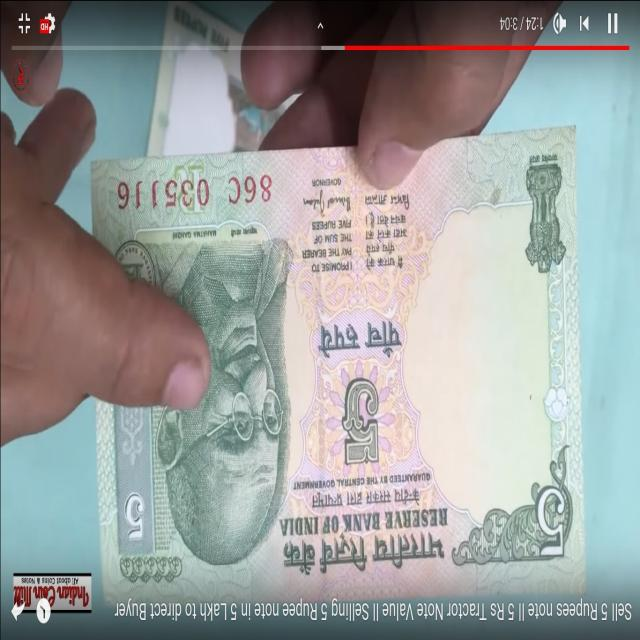5IndianRupees: (84, 154, 588, 578)
